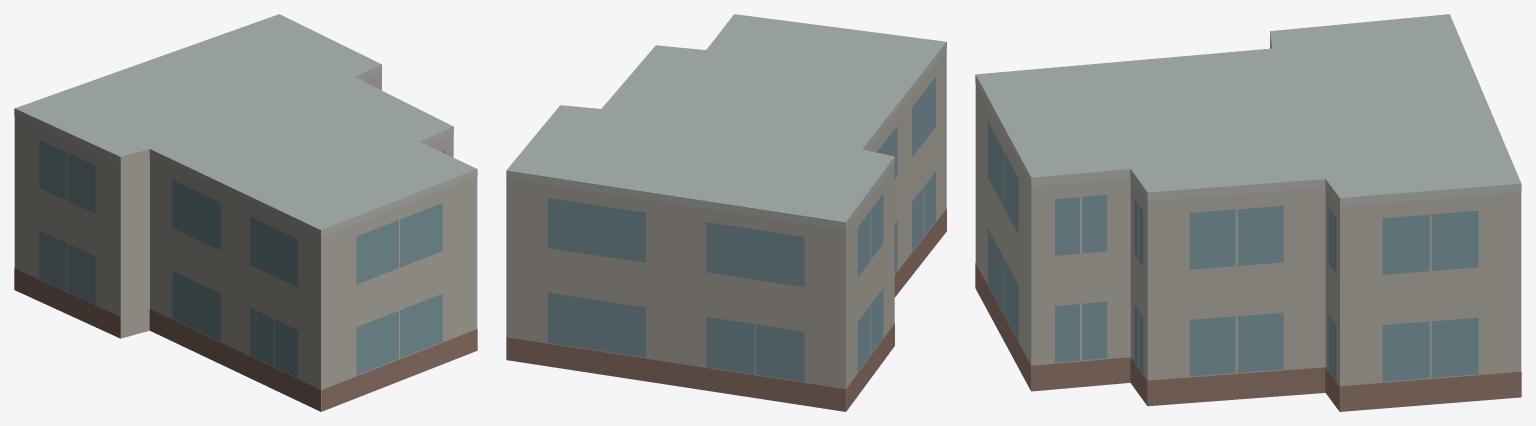
The model's file is survey-upis-32891570.glb.
The picture shows the model from 3 angles, left to right: view 1: azimuth 30°, elevation 25°; view 2: azimuth 150°, elevation 25°; view 3: azimuth 270°, elevation 25°; orthographic projection. The views are drawn at different scales.
Visible parts, largest first — view 1: survey-upis-32891570.tmp; view 2: survey-upis-32891570.tmp; view 3: survey-upis-32891570.tmp.
Boxes of the visible parts, <box> form: survey-upis-32891570.tmp: <box>14,14,477,411</box>; survey-upis-32891570.tmp: <box>506,14,946,411</box>; survey-upis-32891570.tmp: <box>975,14,1521,411</box>.
Size of the model in its own units: 11.28 by 6.1 by 14.13.
